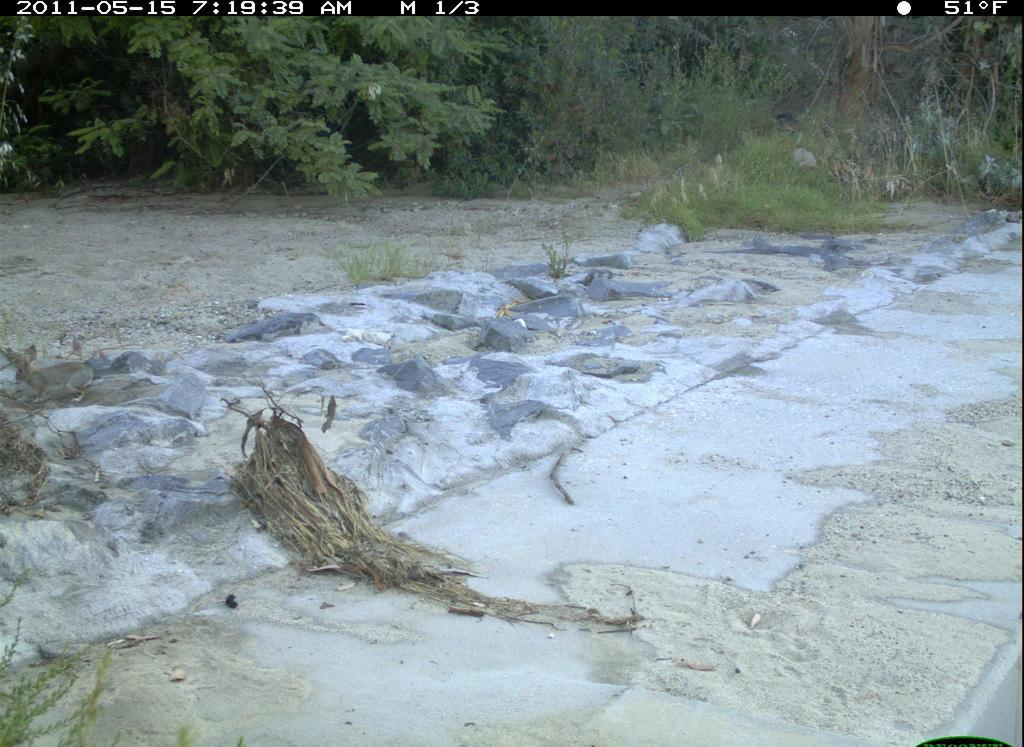rabbit: (11, 343, 98, 408)
